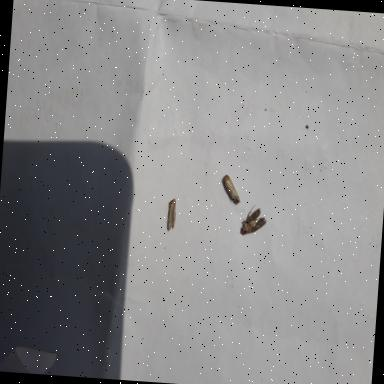pbw: (239, 204, 267, 236), (221, 174, 242, 204), (166, 198, 176, 230)
